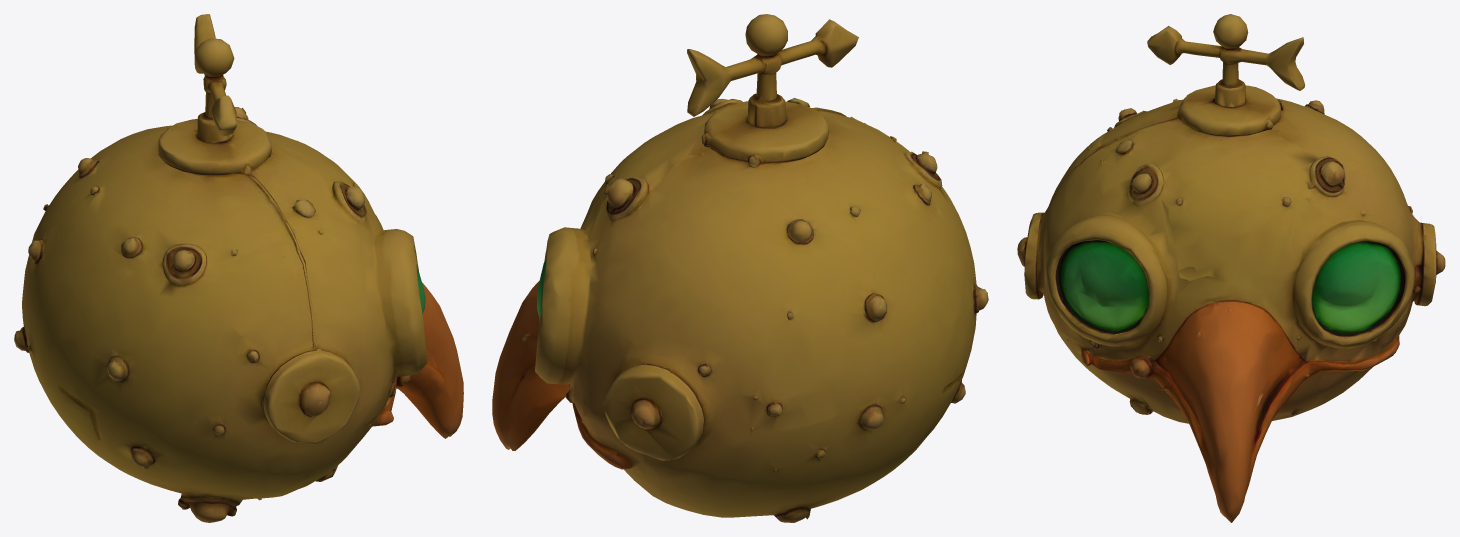
The model's file is head.glb.
3 views of the same model, side by side, from view 1: azimuth 30°, elevation 25°; view 2: azimuth 150°, elevation 25°; view 3: azimuth 270°, elevation 25° (orthographic). The views are drawn at different scales.
Visible parts, largest first — view 1: tripo_node_4e25d048-21e7-4f18-ba9b-6d2057fbedcd; view 2: tripo_node_4e25d048-21e7-4f18-ba9b-6d2057fbedcd; view 3: tripo_node_4e25d048-21e7-4f18-ba9b-6d2057fbedcd.
Part boxes in pixels (x1=…): tripo_node_4e25d048-21e7-4f18-ba9b-6d2057fbedcd: x1=14, y1=14, x2=463, y2=522; tripo_node_4e25d048-21e7-4f18-ba9b-6d2057fbedcd: x1=492, y1=14, x2=988, y2=522; tripo_node_4e25d048-21e7-4f18-ba9b-6d2057fbedcd: x1=1017, y1=14, x2=1445, y2=522.
Bounding box in the file's own units: 0.9446 × 1 × 0.9582.
Materials: 1 (1 with a texture image).
